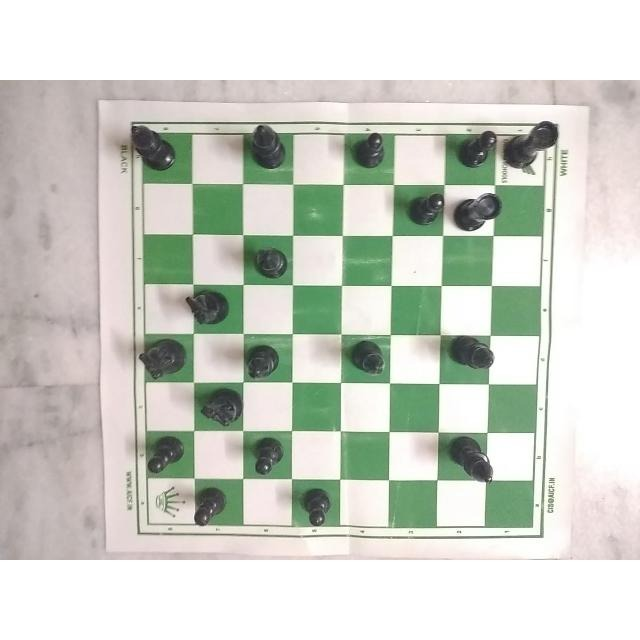black-bishop: (124, 115, 185, 177), (440, 428, 500, 487), (246, 232, 296, 292), (243, 116, 287, 180), (341, 336, 392, 385), (445, 339, 498, 383), (239, 342, 281, 384)
black-knight: (131, 333, 192, 386), (185, 286, 237, 329), (197, 388, 241, 432)
black-pawn: (460, 118, 504, 173), (296, 482, 340, 536), (185, 478, 229, 530), (138, 429, 180, 481), (346, 129, 396, 166), (405, 189, 448, 229), (252, 433, 286, 483)
black-rook: (502, 116, 562, 172), (450, 184, 505, 232)
